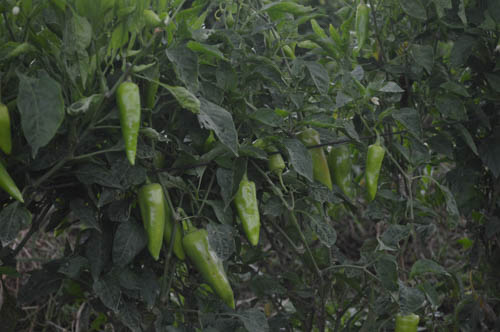ChiliPepper: (182, 229, 237, 304), (113, 82, 142, 163), (298, 129, 333, 188), (138, 183, 163, 261), (162, 204, 185, 264), (235, 182, 257, 244), (330, 147, 355, 196), (361, 144, 382, 198), (348, 6, 365, 52), (264, 144, 283, 170)
